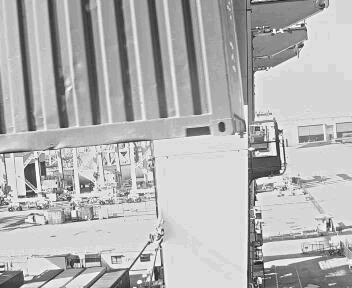twist_lock_1: (231, 120, 246, 145)
